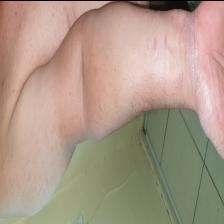Psoriasis vulgaris: (182, 5, 199, 96), (152, 8, 176, 60)
